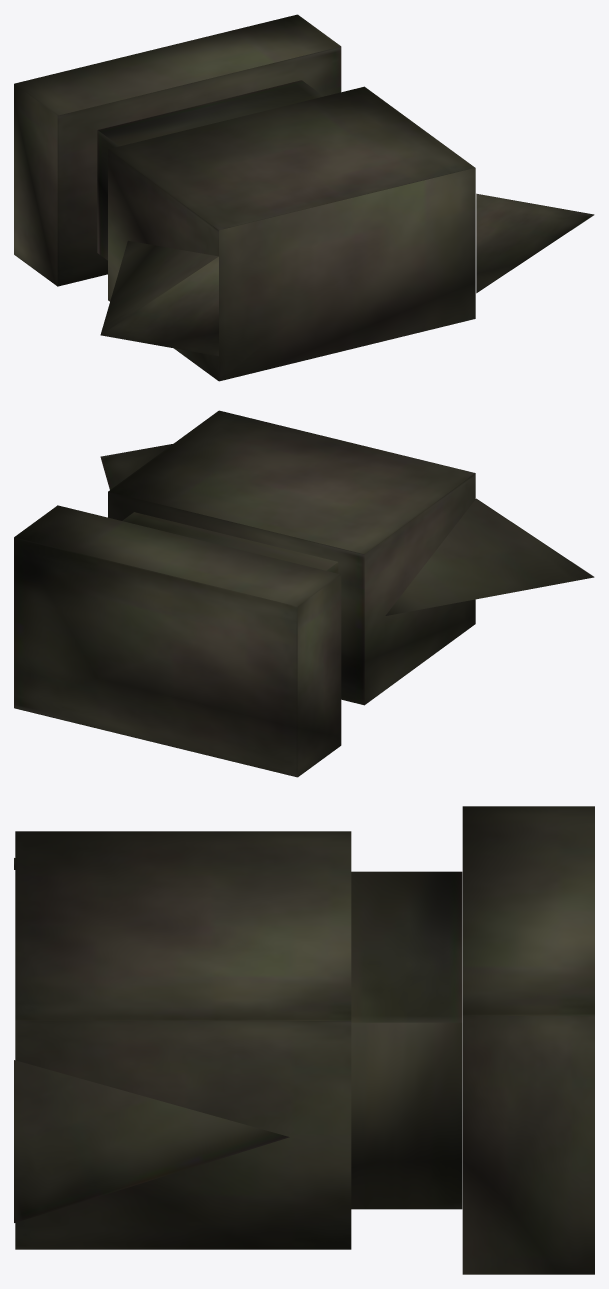
Rendered from anvil.glb.
The picture shows the model from 3 angles, top to bottom: view 1: azimuth 30°, elevation 25°; view 2: azimuth 150°, elevation 25°; view 3: azimuth 270°, elevation 25°; orthographic projection. The views are drawn at different scales.
Visible parts, largest first — view 1: joint_scale_anvil; view 2: joint_scale_anvil; view 3: joint_scale_anvil.
Boxes of the visible parts, x1,y1,x2,y2 form: joint_scale_anvil: (14,14,594,381); joint_scale_anvil: (14,410,594,777); joint_scale_anvil: (14,806,594,1274).
Bounding box in the file's own units: 2.13 × 0.7032 × 1.43.
Materials: 1 (1 with a texture image).
